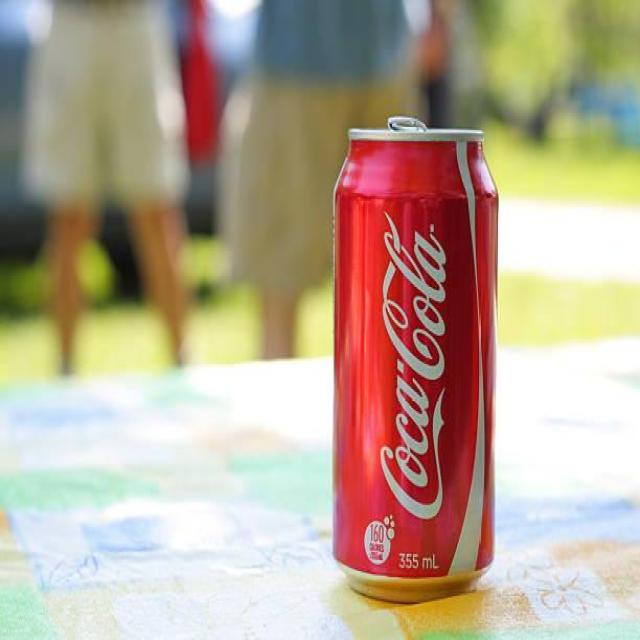can: (332, 127, 498, 601)
pop tab: (387, 116, 428, 137)
